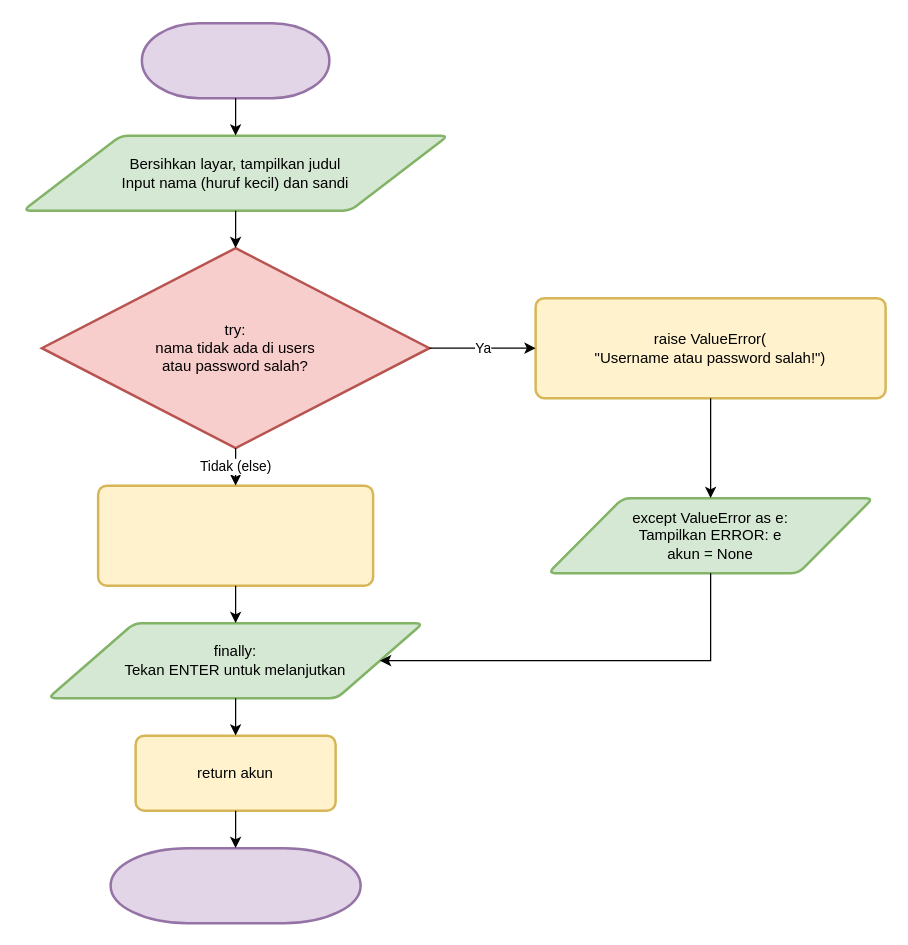
Some shapes in this 908 by 945 pixel diagram are drawn without their labels. The shapes that lost their labels are listed below. From the top down, each one's centre as x and y in pixels, then its label:
(x=235, y=60): Mulai login()
(x=235, y=535): else: akun = (nama, role) Tampilkan: Login berhasil
(x=235, y=885): Selesai (mengembalikan akun)
